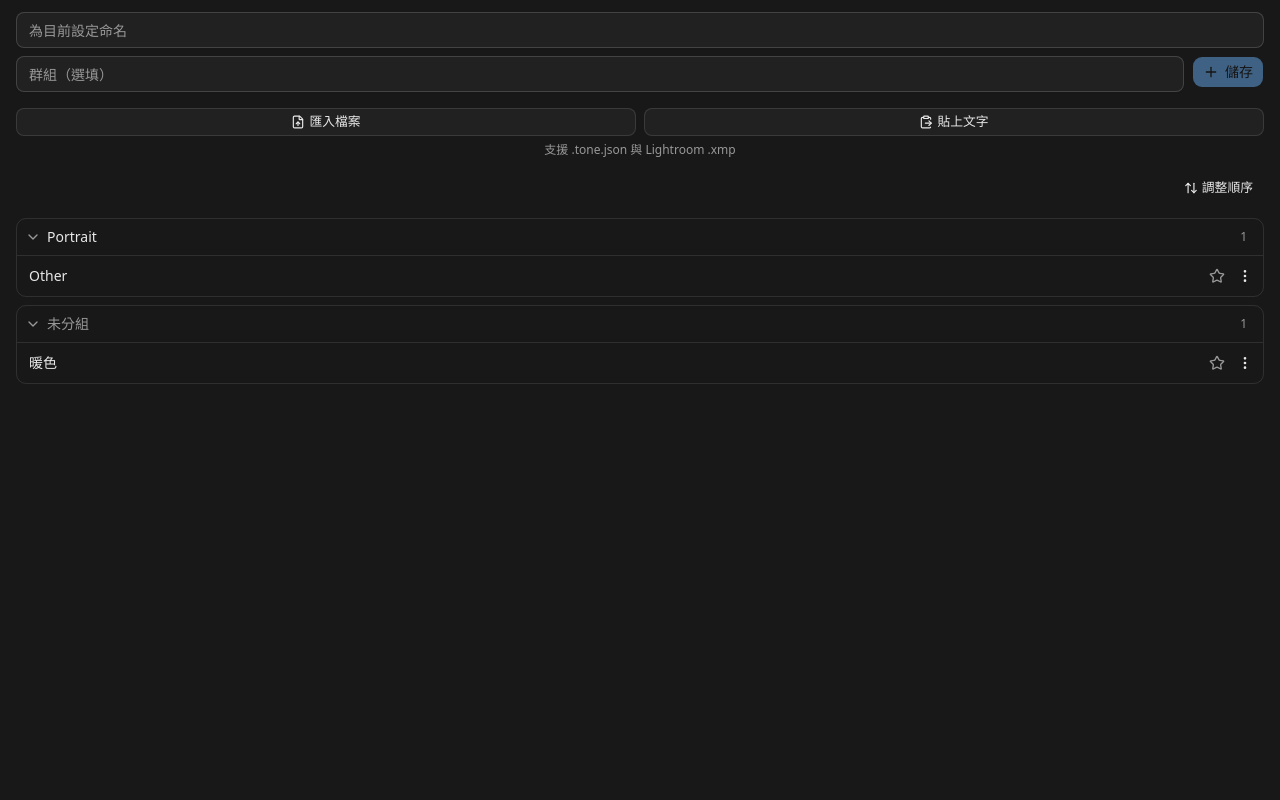
Test: PresetPanel › renames and regroups a preset from the edit dialog
Click the button named "「暖色」的更多動作" at [1245, 363], box [1231,349,1259,377]
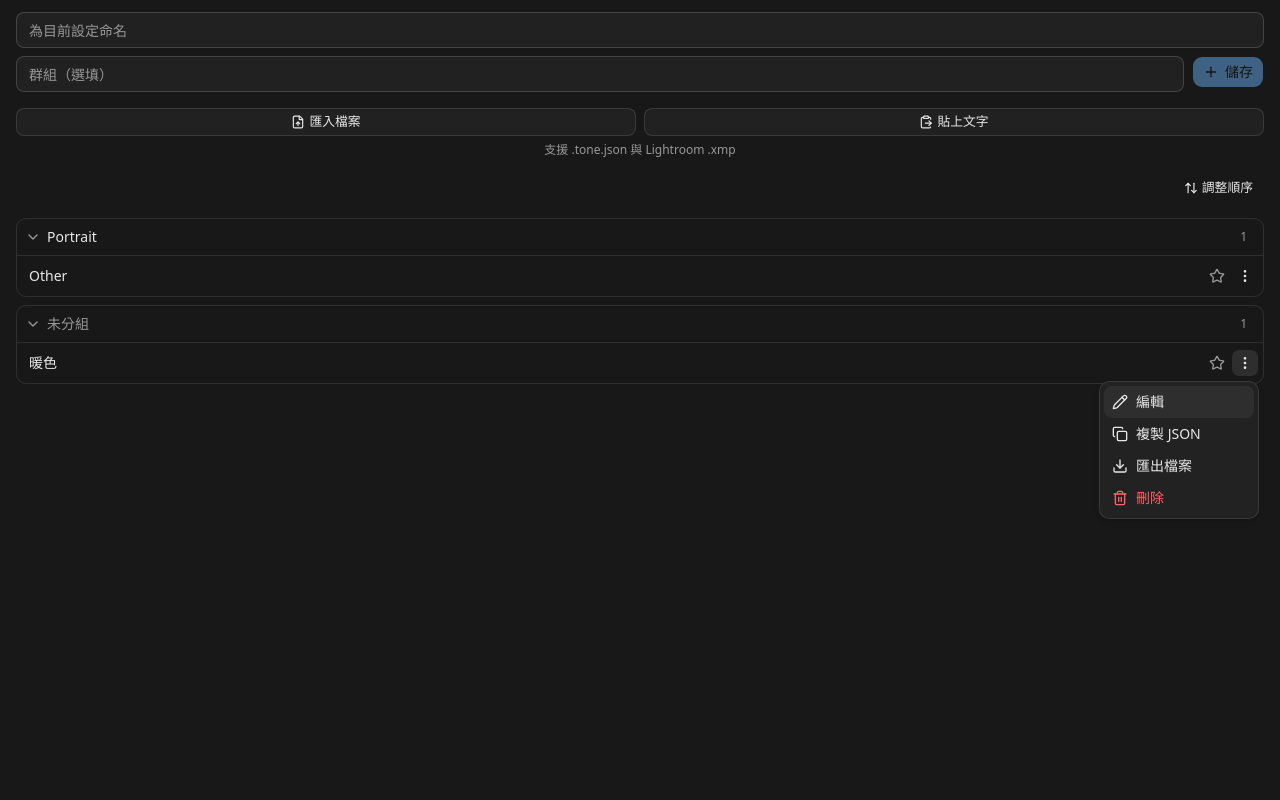
Click the menu item "編輯" at [1179, 402], box [1104,386,1254,418]
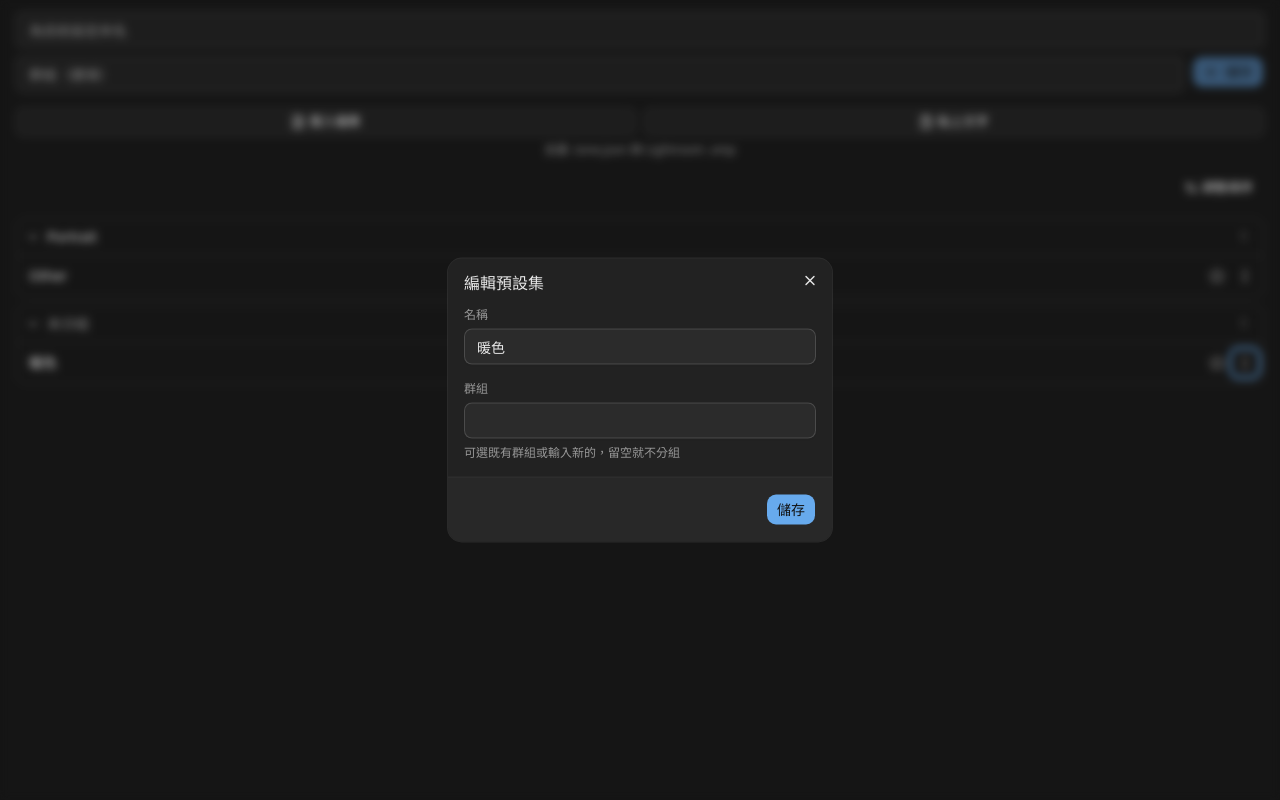
Check: the field labelled "群組" is empty, box [464,402,816,438]
Check: the field labelled "名稱" holds "暖色"
Replace the text in the field labelled "名稱" with "暖色 2" at [640, 346], box [464,328,816,364]
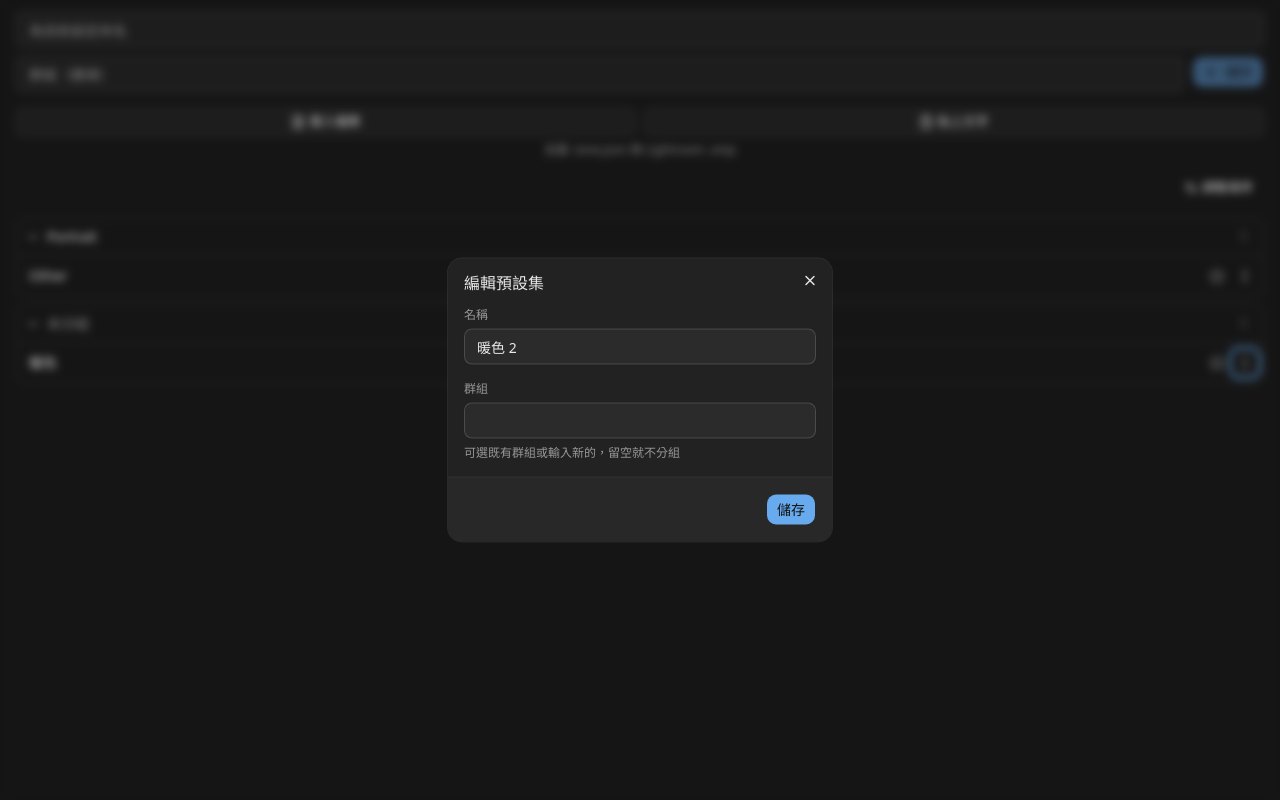
Type "Portrait" into the field labelled "群組" at [640, 420], box [464,402,816,438]
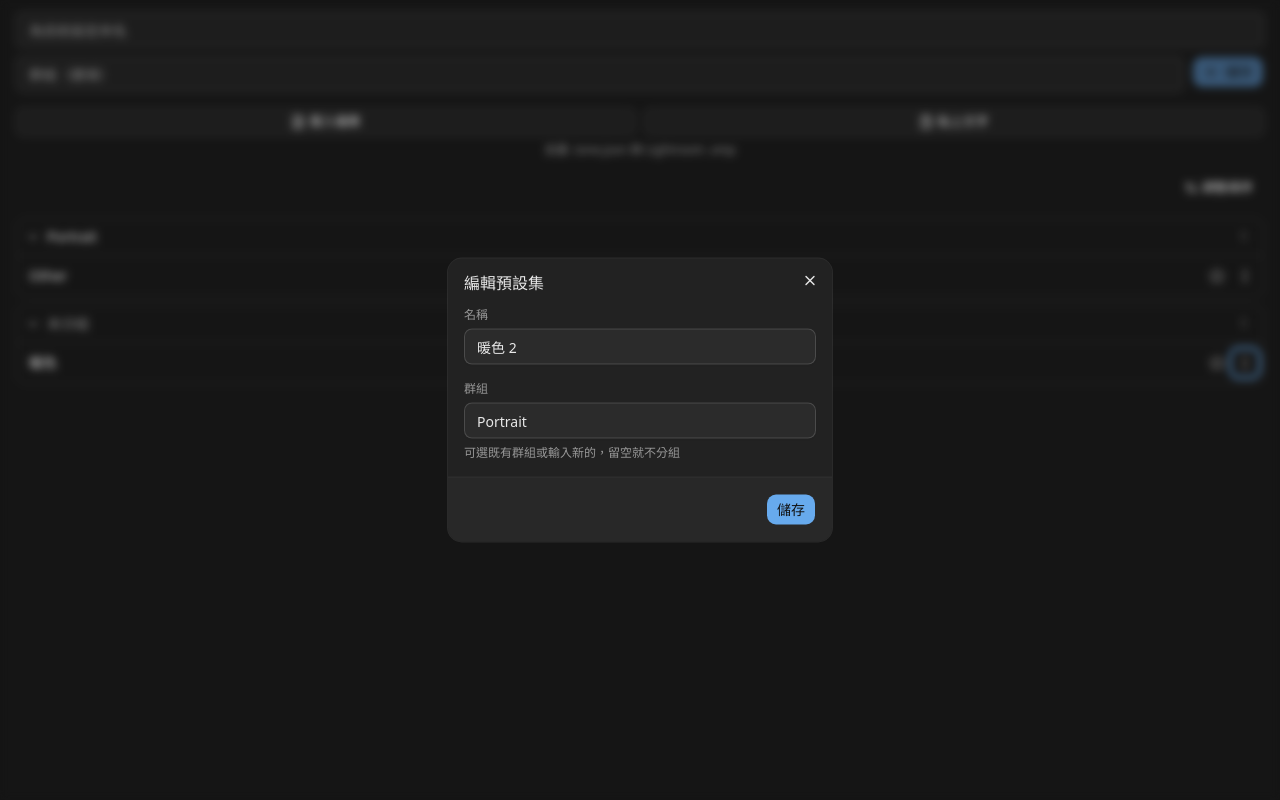
Click the button "儲存" at [791, 510], box [766,494,816,526]
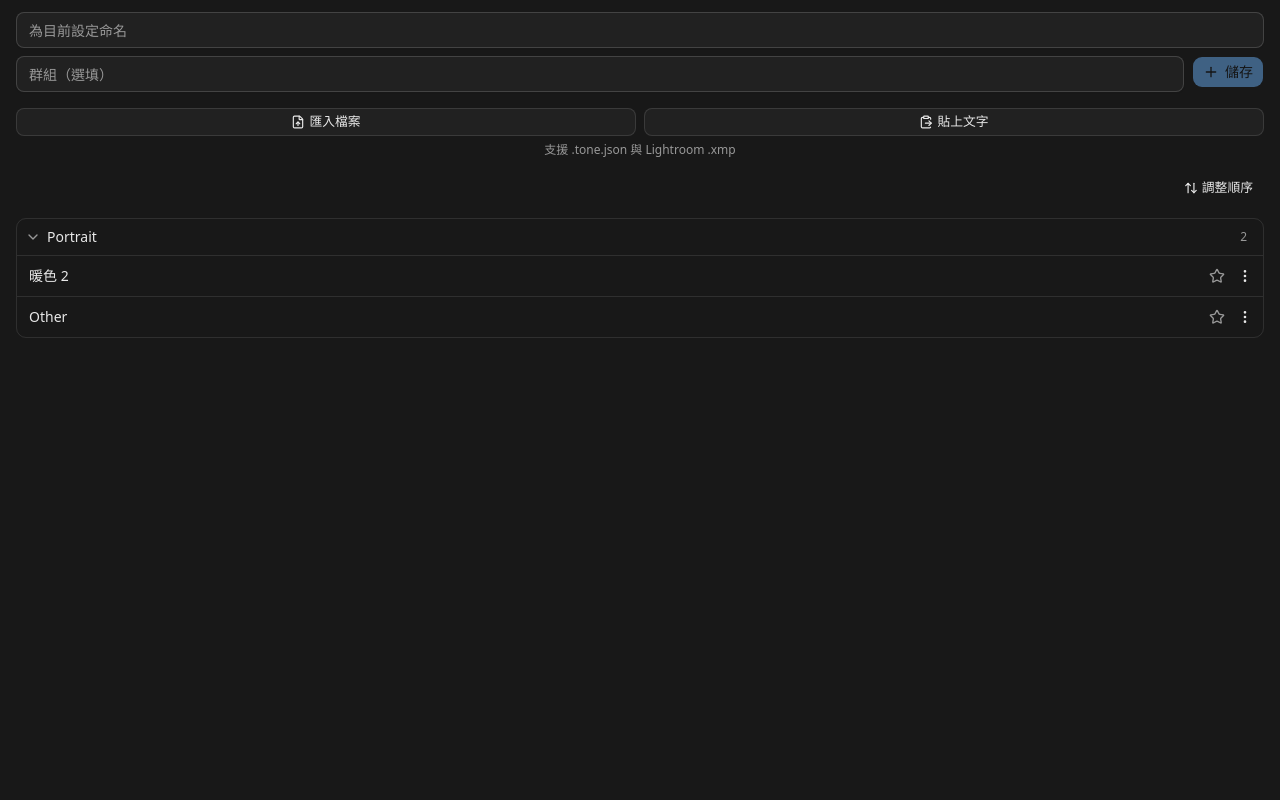
Check: the text "Portrait" is shown, box [47,227,97,246]
Check: the dialog is gone
